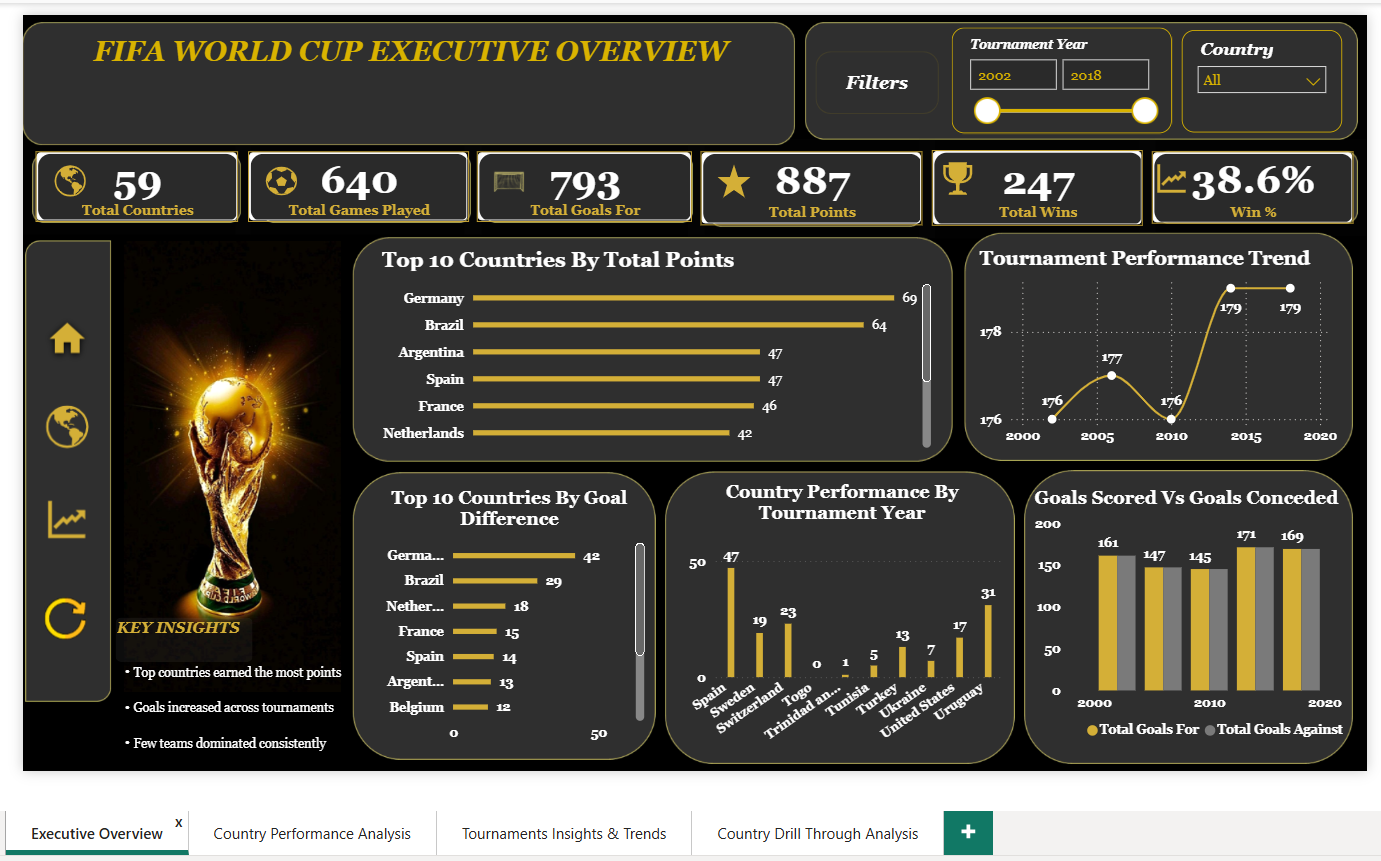

Layout of this report page (visuals, bound fields, positions):
{"tool":"powerbi","page":{"name":"Executive Overview","canvas":[1280,720],"ordinal":0},"visuals":[{"type":"cardVisual","fields":{"Data":["Measures Table.Total Countries"]},"box":[0,117.9,217.9,91],"z":0},{"type":"cardVisual","fields":{"Data":["Measures Table.Total Goals For"]},"box":[420.3,117.9,229.5,91],"z":1000},{"type":"cardVisual","fields":{"Data":["Measures Table.Total Games Played"]},"box":[201.8,117.9,234.6,91],"z":2000},{"type":"cardVisual","fields":{"Data":["Measures Table.Total Wins"]},"box":[853.3,116.7,225.6,96.2],"z":3000},{"type":"cardVisual","fields":{"Data":["Measures Table.Total Points"]},"box":[633.6,117.9,235.9,94.9],"z":4000},{"type":"cardVisual","fields":{"Data":["Measures Table.Win %"]},"box":[1062.8,117.9,216.7,93.6],"z":5000},{"type":"barChart","title":"Top 10 Countries By Total Points","fields":{"Category":["Dim_Country.Country"],"Y":["Measures Table.Total Points"]},"box":[337.1,221.6,533,195.9],"z":6000},{"type":"lineChart","title":"Tournament Performance Trend","fields":{"Category":["Dim_Date.Tournament Year"],"Y":["Measures Table.Total Points"]},"box":[906.2,221.6,350.5,195.9],"z":7000},{"type":"clusteredColumnChart","title":"Goals Scored Vs Goals Conceded","fields":{"Category":["Dim_Date.Tournament Year"],"Y":["Measures Table.Total Goals For","Measures Table.Total Goals Against"]},"box":[958.8,449.5,308.2,249.5],"z":8000},{"type":"clusteredColumnChart","title":"Country Performance By Tournament Year","fields":{"Category":["Dim_Country.Country","Dim_Date.Tournament Year"],"Y":["Measures Table.Total Points"]},"box":[621.6,444.3,317.5,258.8],"z":9000},{"type":"clusteredBarChart","title":"Top 10  Countries By Goal Difference","fields":{"Category":["Dim_Country.Country"],"Y":["Measures Table.Total Goal Difference"]},"box":[329.4,449.4,267.1,249.4],"z":10000},{"type":"textbox","box":[9,14,722,98],"z":11000},{"type":"slicer","fields":{"Values":["Dim_Date.Tournament Year"]},"box":[884.5,11.3,209.3,101],"z":12000},{"type":"shape","box":[754.6,34,117.5,59.8],"z":13000},{"type":"slicer","fields":{"Values":["Dim_Country.Country"]},"box":[1104.1,14.4,152.6,97.9],"z":14000},{"type":"image","box":[227.9,139.3,37.9,37.9],"z":15000},{"type":"image","box":[25.7,139.3,37.9,37.9],"z":16000},{"type":"image","box":[443.9,139,37.8,37.8],"z":17000},{"type":"image","box":[872,136.6,37.8,37.8],"z":18000},{"type":"image","box":[658.6,139.3,37.9,37.9],"z":19000},{"type":"image","box":[1075,136.4,37.9,37.9],"z":20000},{"type":"shape","box":[88,575,130,42],"z":21000},{"type":"textbox","box":[88,574,228,146],"z":22000},{"type":"actionButton","box":[15.7,455.6,52.8,49.1],"z":23000},{"type":"actionButton","box":[14.8,366.7,55.6,50.9],"z":24000},{"type":"actionButton","box":[8.7,279.8,67.3,59.6],"z":25000},{"type":"actionButton","box":[15,555,49,40],"z":26000}]}

Visuals, with their boxes on the page's 1280x720 design canvas (x1, y1, x2, y2). These are canvas units, not pixel positions in the 1381x861 screenshot, which may show the page scaled, cropped or inside an application window:
cardVisual - Measures Table.Total Countries: locate(0, 118, 218, 209)
cardVisual - Measures Table.Total Goals For: locate(420, 118, 650, 209)
cardVisual - Measures Table.Total Games Played: locate(202, 118, 436, 209)
cardVisual - Measures Table.Total Wins: locate(853, 117, 1079, 213)
cardVisual - Measures Table.Total Points: locate(634, 118, 870, 213)
cardVisual - Measures Table.Win %: locate(1063, 118, 1280, 212)
"Top 10 Countries By Total Points" barChart: locate(337, 222, 870, 418)
"Tournament Performance Trend" lineChart: locate(906, 222, 1257, 418)
"Goals Scored Vs Goals Conceded" clusteredColumnChart: locate(959, 450, 1267, 699)
"Country Performance By Tournament Year" clusteredColumnChart: locate(622, 444, 939, 703)
"Top 10  Countries By Goal Difference" clusteredBarChart: locate(329, 449, 596, 699)
textbox: locate(9, 14, 731, 112)
slicer - Dim_Date.Tournament Year: locate(884, 11, 1094, 112)
shape: locate(755, 34, 872, 94)
slicer - Dim_Country.Country: locate(1104, 14, 1257, 112)
image: locate(228, 139, 266, 177)
image: locate(26, 139, 64, 177)
image: locate(444, 139, 482, 177)
image: locate(872, 137, 910, 174)
image: locate(659, 139, 696, 177)
image: locate(1075, 136, 1113, 174)
shape: locate(88, 575, 218, 617)
textbox: locate(88, 574, 316, 720)
actionButton: locate(16, 456, 68, 505)
actionButton: locate(15, 367, 70, 418)
actionButton: locate(9, 280, 76, 339)
actionButton: locate(15, 555, 64, 595)
